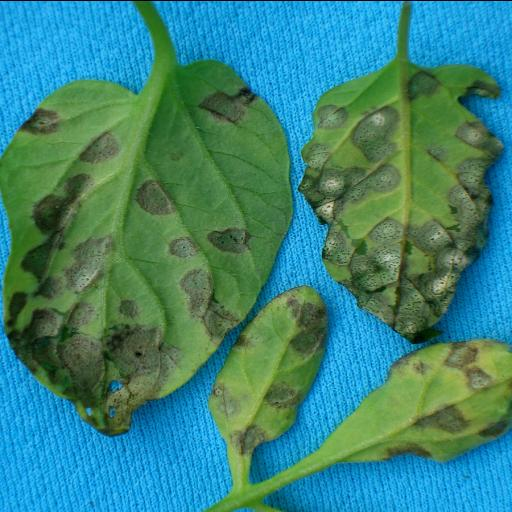disease_tomato: (7, 57, 297, 439), (298, 60, 508, 346), (298, 339, 512, 465), (206, 279, 332, 457)
